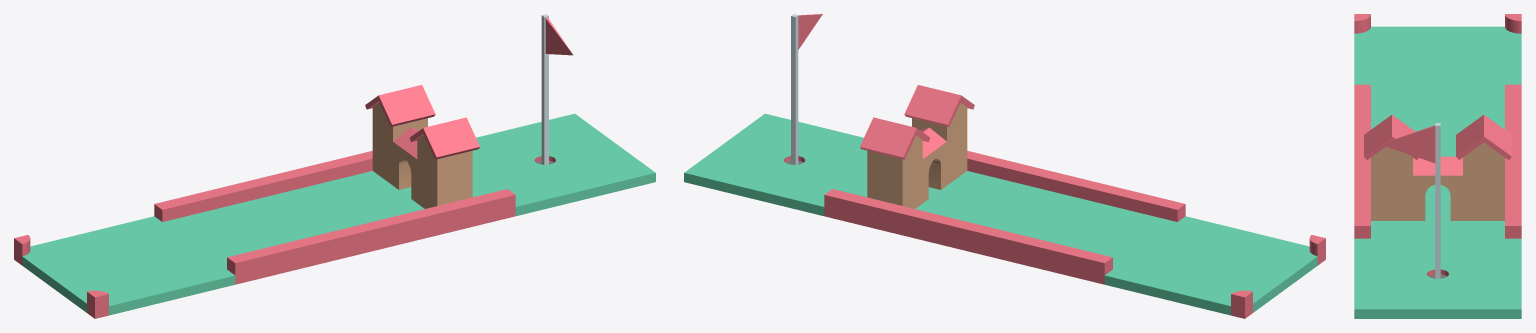
The picture shows the model from 3 angles, left to right: view 1: azimuth 30°, elevation 25°; view 2: azimuth 150°, elevation 25°; view 3: azimuth 270°, elevation 25°; orthographic projection. The views are drawn at different scales.
Parts seen in each view (by area): view 1: castle.001, straight.001, wallsToOpen, holeOpen, flag_red.001; view 2: castle.001, straight.001, wallsToOpen, holeOpen, flag_red.001; view 3: castle.001, holeOpen, wallsToOpen, straight.001, flag_red.001.
Part boxes in pixels (bbox=[...]): castle.001: bbox=[295, 85, 515, 250]; straight.001: bbox=[154, 170, 375, 284]; wallsToOpen: bbox=[14, 216, 235, 318]; holeOpen: bbox=[472, 113, 655, 215]; flag_red.001: bbox=[541, 14, 572, 164]; castle.001: bbox=[824, 85, 1044, 250]; straight.001: bbox=[964, 170, 1185, 284]; wallsToOpen: bbox=[1104, 216, 1325, 318]; holeOpen: bbox=[684, 113, 867, 215]; flag_red.001: bbox=[791, 14, 822, 164]; castle.001: bbox=[1354, 115, 1521, 238]; holeOpen: bbox=[1354, 238, 1521, 318]; wallsToOpen: bbox=[1354, 14, 1521, 97]; straight.001: bbox=[1354, 84, 1521, 156]; flag_red.001: bbox=[1380, 123, 1440, 278].
Bounding box in the file's own units: 400 × 105 × 99.99.
